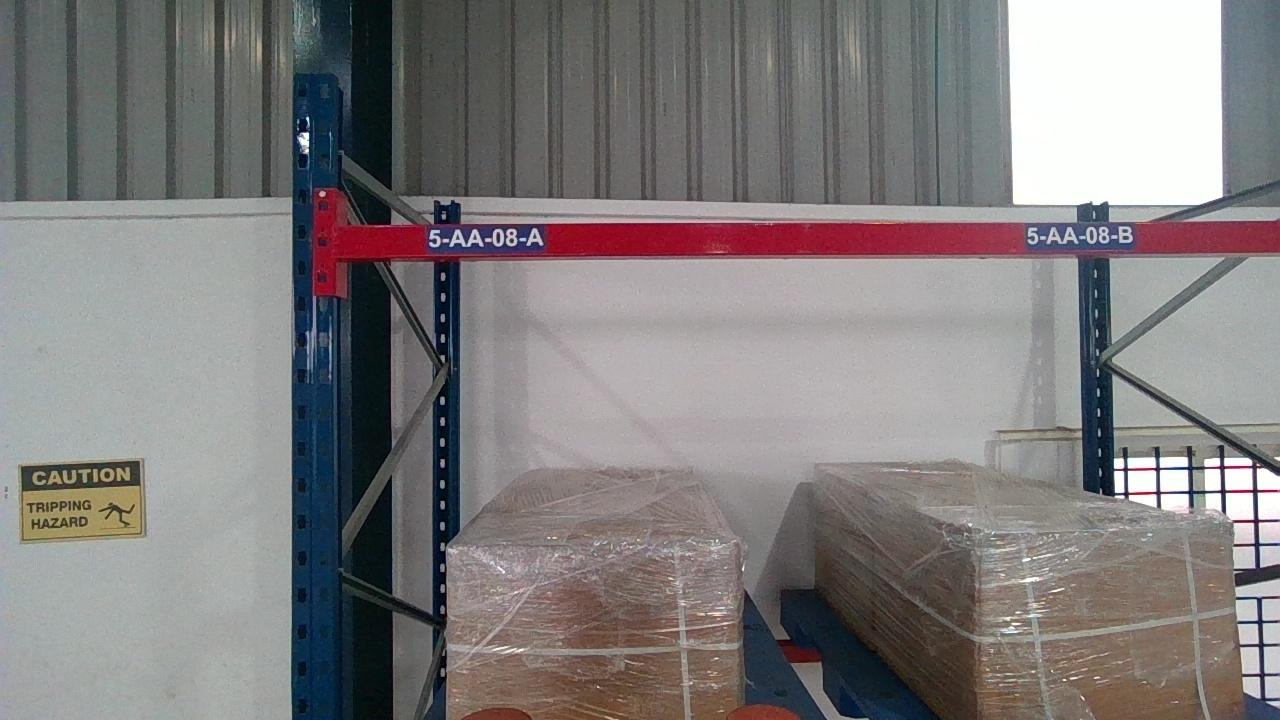h_rack: (334, 225, 1279, 257)
